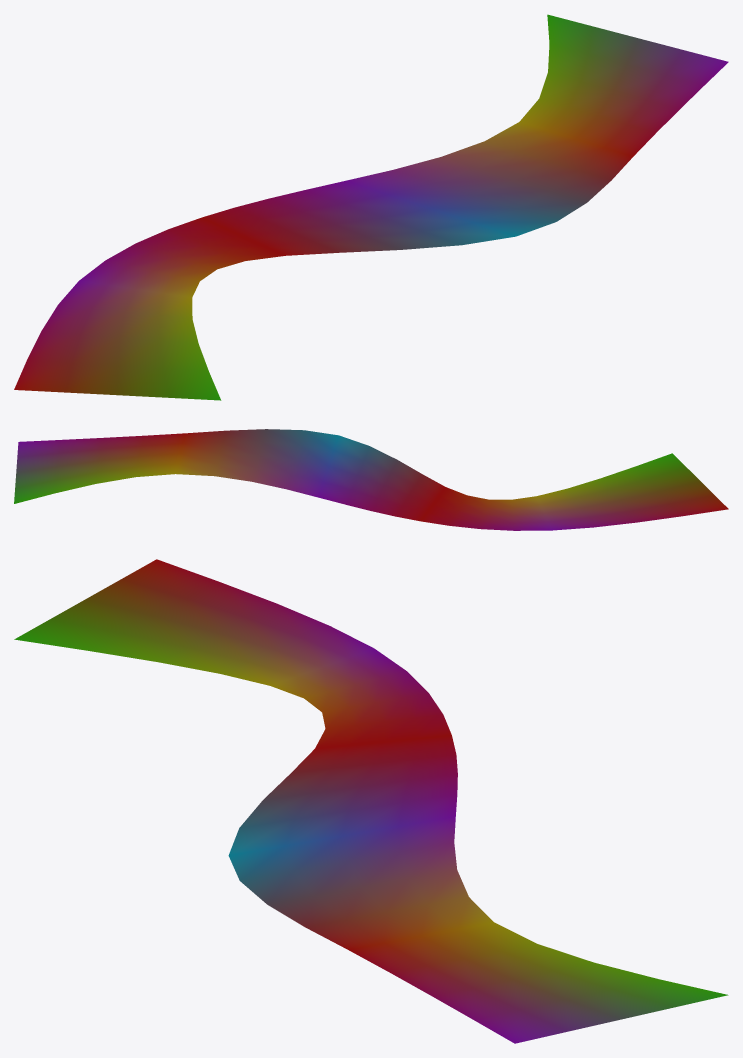
The model's file is baryTest.fbx.
3 views of the same model, one above another, from view 1: azimuth 30°, elevation 25°; view 2: azimuth 150°, elevation 25°; view 3: azimuth 270°, elevation 25° (orthographic). The views are drawn at different scales.
Visible parts, largest first — view 1: pPlane1; view 2: pPlane1; view 3: pPlane1.
Boxes of the visible parts, box(x1,y1,x2,y2) form: pPlane1: box(14, 14, 728, 400); pPlane1: box(14, 429, 728, 530); pPlane1: box(14, 559, 728, 1043).
Size of the model in its own units: 8.86 by 1.11e-15 by 5.52.
